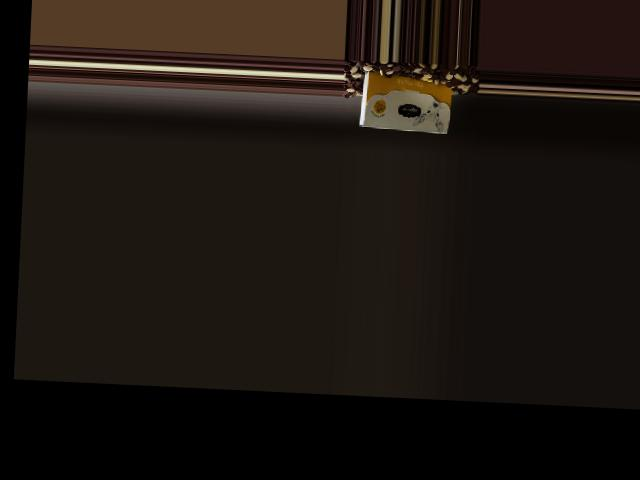chocolate: (354, 68, 458, 137)
